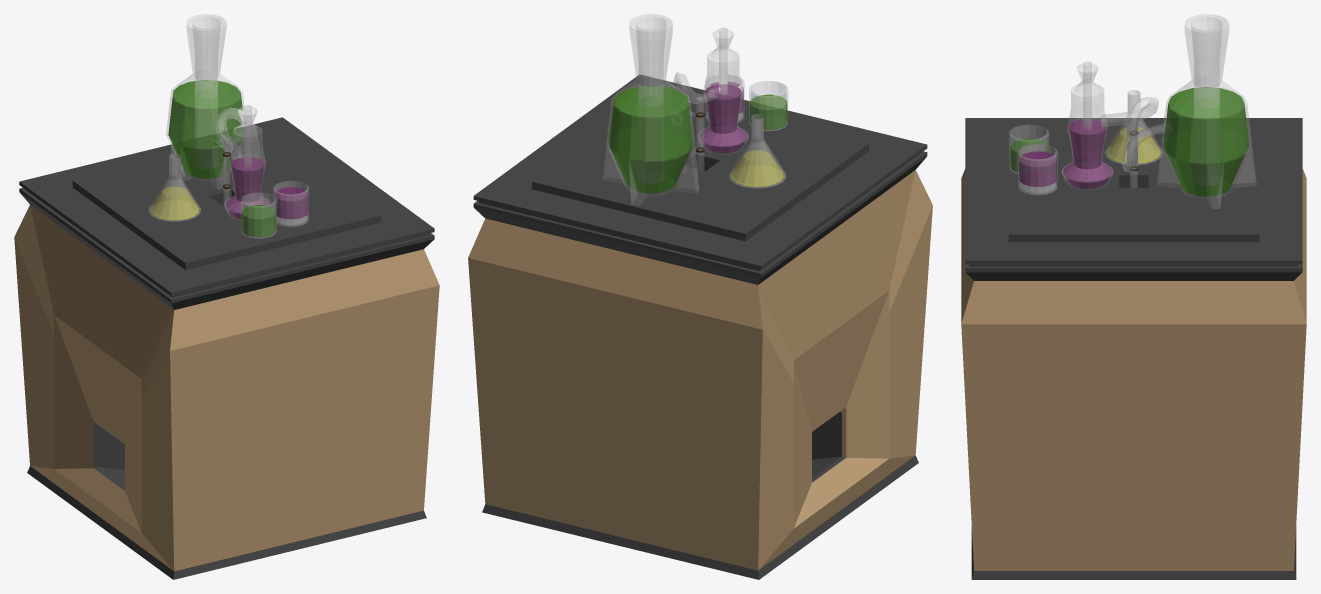
The model's file is Archemy Table.fbx.
3 views of the same model, side by side, from view 1: azimuth 30°, elevation 25°; view 2: azimuth 150°, elevation 25°; view 3: azimuth 270°, elevation 25° (orthographic). The views are drawn at different scales.
Visible parts, largest first — view 1: box, object, liquid, BezierCurve; view 2: box, object, liquid, BezierCurve; view 3: box, object, liquid, BezierCurve.
Part boxes in pixels (left/top/right/bottom): box: left=14, top=117, right=439, bottom=579; object: left=148, top=14, right=308, bottom=238; liquid: left=151, top=80, right=308, bottom=237; BezierCurve: left=213, top=108, right=260, bottom=159; box: left=468, top=74, right=932, bottom=579; object: left=603, top=14, right=787, bottom=205; liquid: left=609, top=82, right=787, bottom=193; BezierCurve: left=672, top=72, right=720, bottom=121; box: left=961, top=118, right=1306, bottom=579; object: left=1009, top=14, right=1256, bottom=208; liquid: left=1010, top=87, right=1249, bottom=196; BezierCurve: left=1101, top=97, right=1165, bottom=171.
Size of the model in its own units: 22.55 by 35.63 by 22.55.
